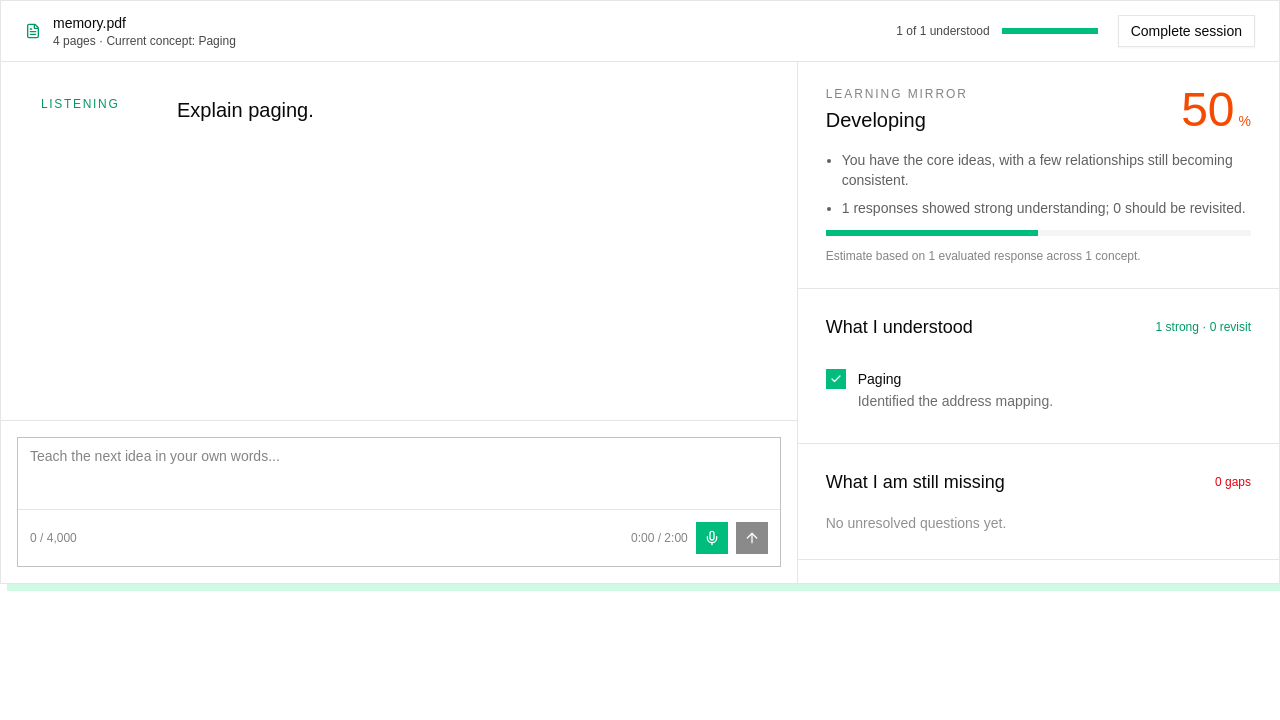
Test: SessionWorkspace › shows an ending state while completion is pending
Expected: the text "Explain paging." is shown, [177, 99, 314, 121]
Click the button "Complete session".
click(1186, 31)  # box [1118, 15, 1255, 47]
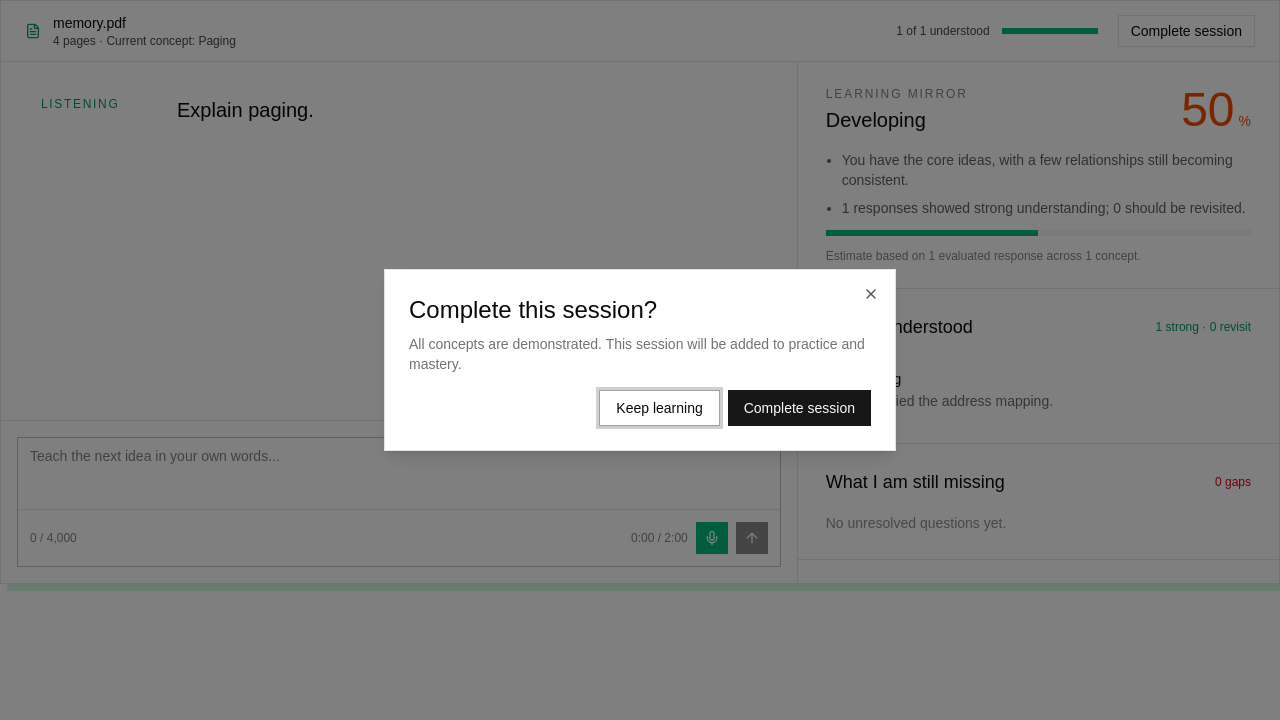
Click the button "Complete session".
click(799, 408)  # box [728, 390, 871, 426]
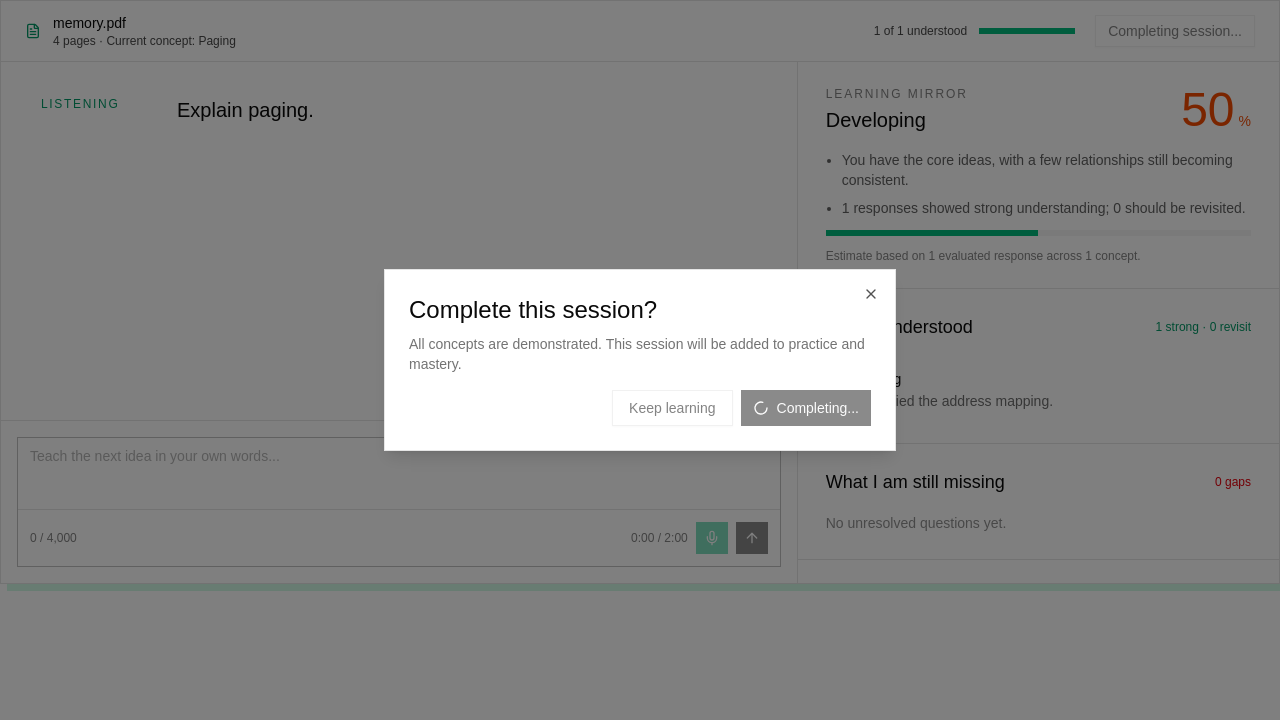
Expected: the button "Completing session..." is disabled, [1095, 15, 1255, 47]
